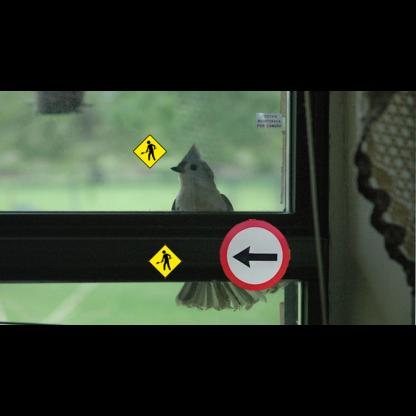A-24: (133, 134, 167, 169), (148, 244, 182, 278)
I-E: (256, 113, 282, 128)
R-24a: (220, 219, 290, 290)
